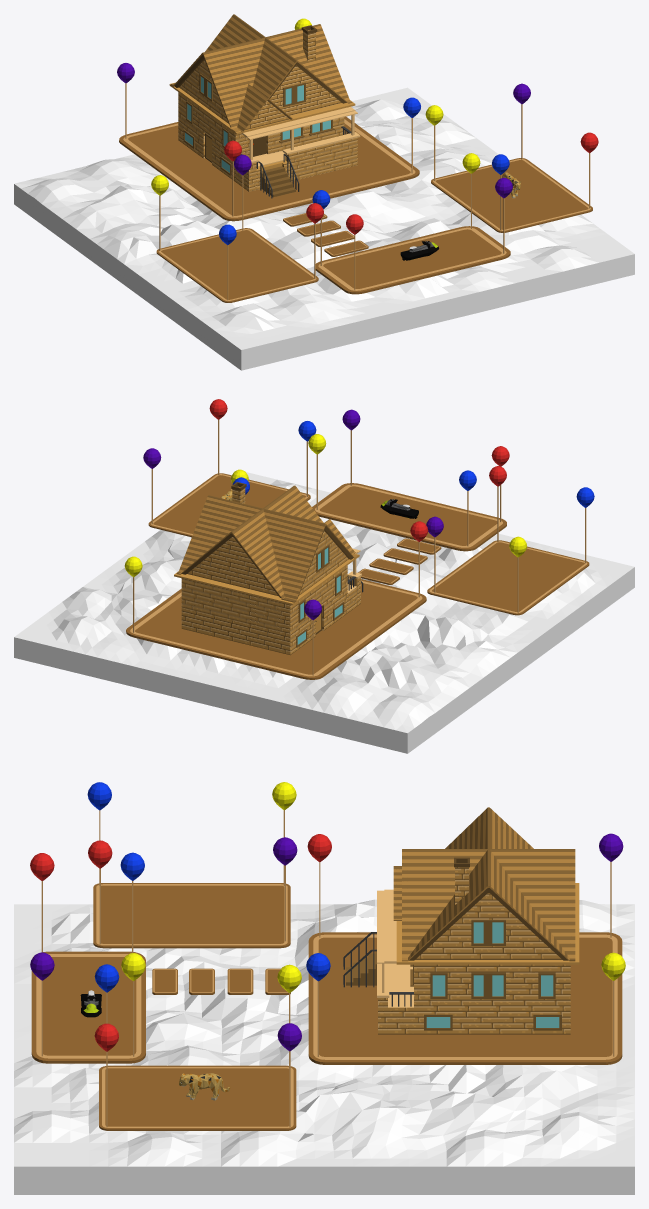
3 views of the same model, one above another, from view 1: azimuth 30°, elevation 25°; view 2: azimuth 150°, elevation 25°; view 3: azimuth 270°, elevation 25° (orthographic). The views are drawn at different scales.
Parts seen in each view (by area): view 1: Cube.013, Cube.508; view 2: Cube.013, Cube.508; view 3: Cube.013, Cube.508, ANIMAL_JAGUAR.
Part boxes in pixels (x1=…): Cube.013: x1=14, y1=18, x2=634, y2=370; Cube.508: x1=169, y1=14, x2=360, y2=198; Cube.013: x1=14, y1=399, x2=634, y2=753; Cube.508: x1=174, y1=482, x2=363, y2=655; Cube.013: x1=14, y1=782, x2=634, y2=1194; Cube.508: x1=343, y1=807, x2=579, y2=1034; ANIMAL_JAGUAR: x1=179, y1=1073, x2=230, y2=1100.
Bounding box in the file's own units: 4000 × 1688 × 4000.
Materials: 32 (2 with a texture image).
